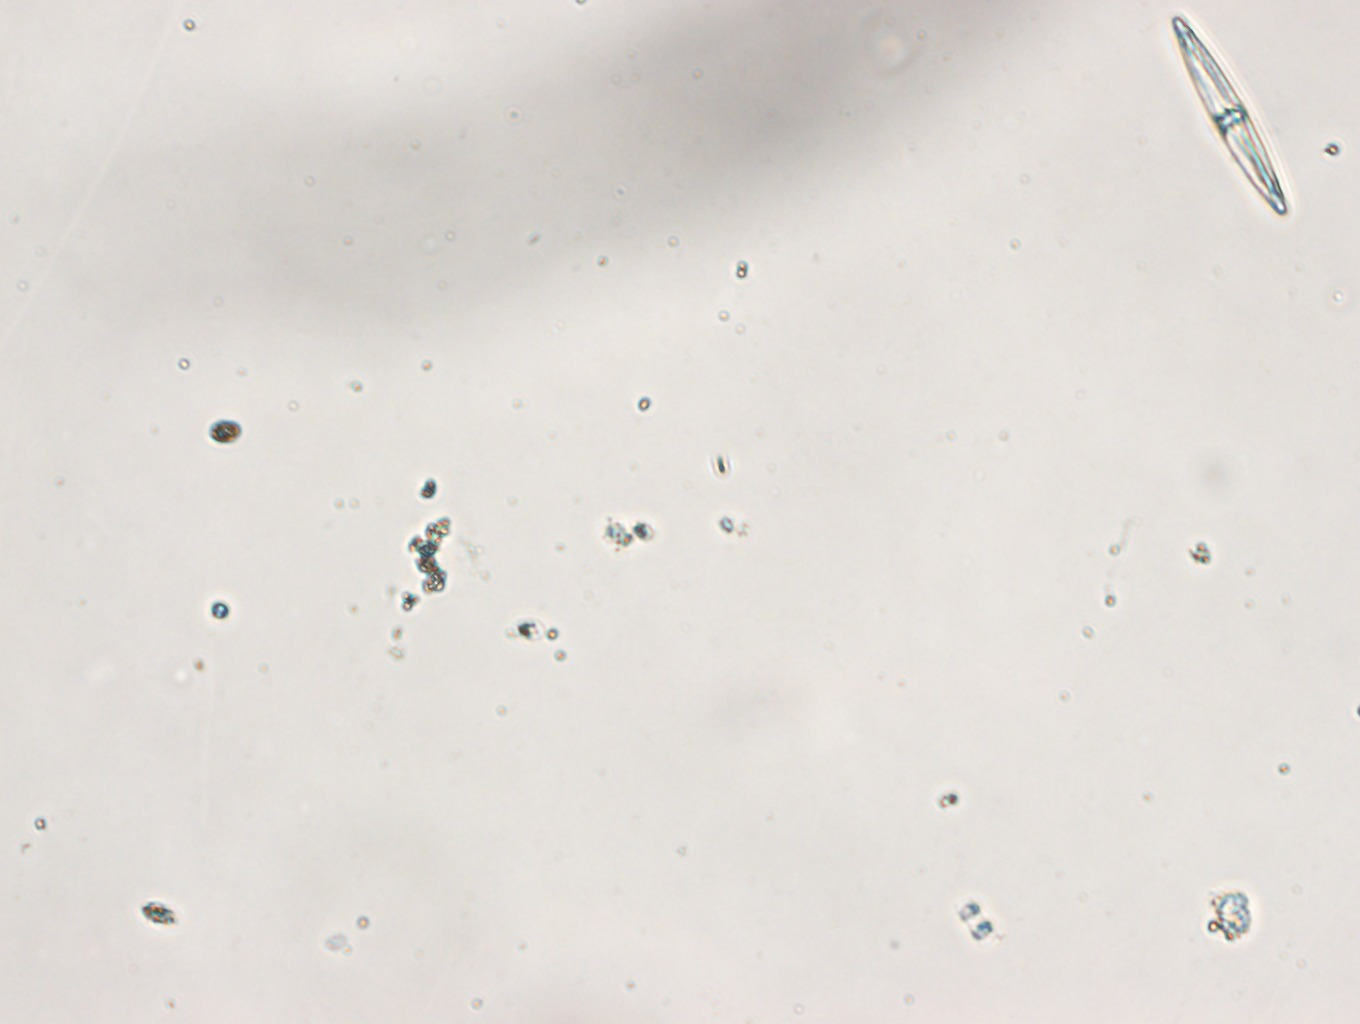navicula: (1169, 13, 1292, 218)
